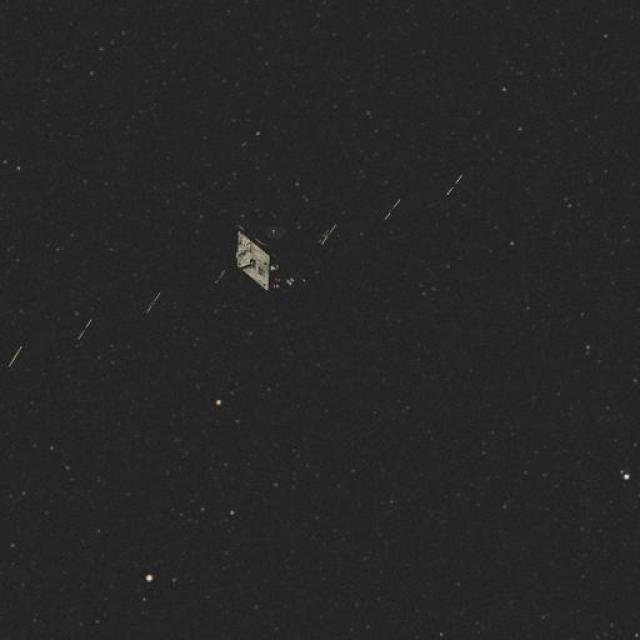smart_1: (1, 153, 444, 367)
